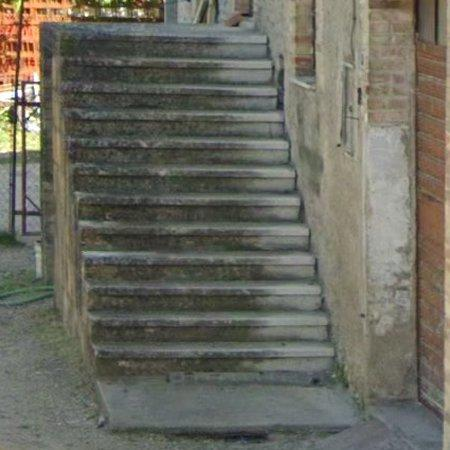stairs: (43, 24, 358, 435)
